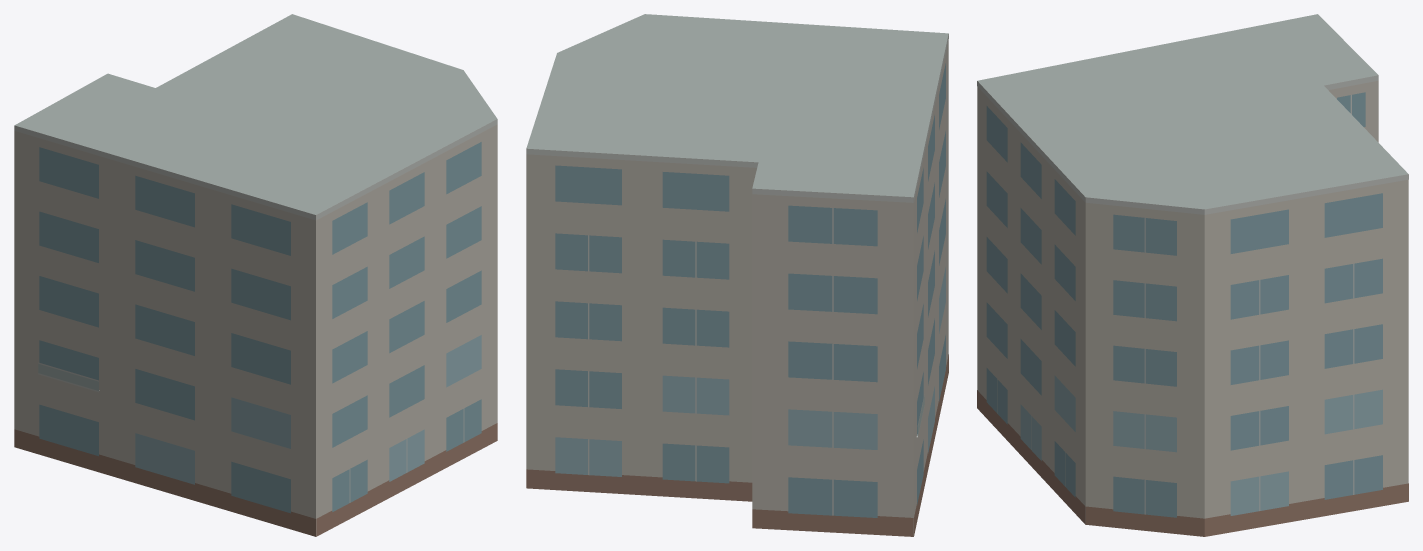
The model's file is survey-upis-33021125.glb.
The picture shows the model from 3 angles, left to right: view 1: azimuth 30°, elevation 25°; view 2: azimuth 150°, elevation 25°; view 3: azimuth 270°, elevation 25°; orthographic projection. The views are drawn at different scales.
Visible parts, largest first — view 1: survey-upis-33021125.tmp; view 2: survey-upis-33021125.tmp; view 3: survey-upis-33021125.tmp.
Boxes of the visible parts, bbox=[...] form: survey-upis-33021125.tmp: bbox=[14, 14, 497, 536]; survey-upis-33021125.tmp: bbox=[526, 14, 948, 536]; survey-upis-33021125.tmp: bbox=[977, 14, 1408, 536].
Bounding box in the file's own units: 18.83 × 14.7 × 17.57.
